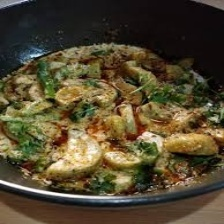sabzi: (0, 42, 224, 202)
